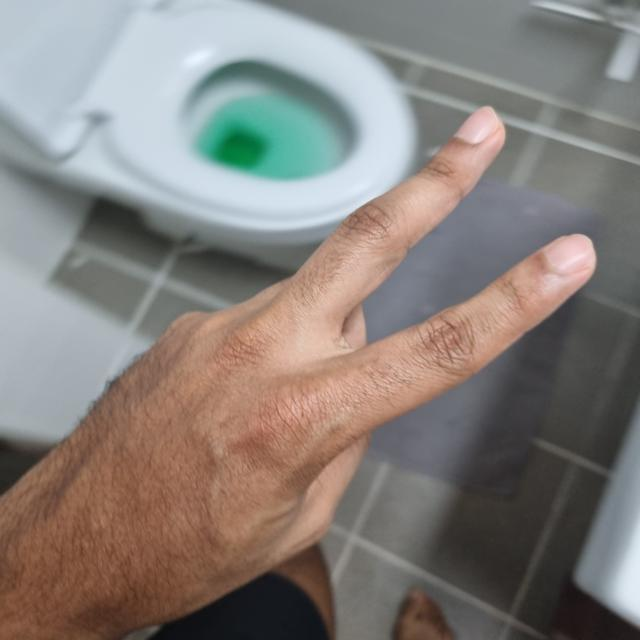Scissors: (2, 108, 593, 637)
